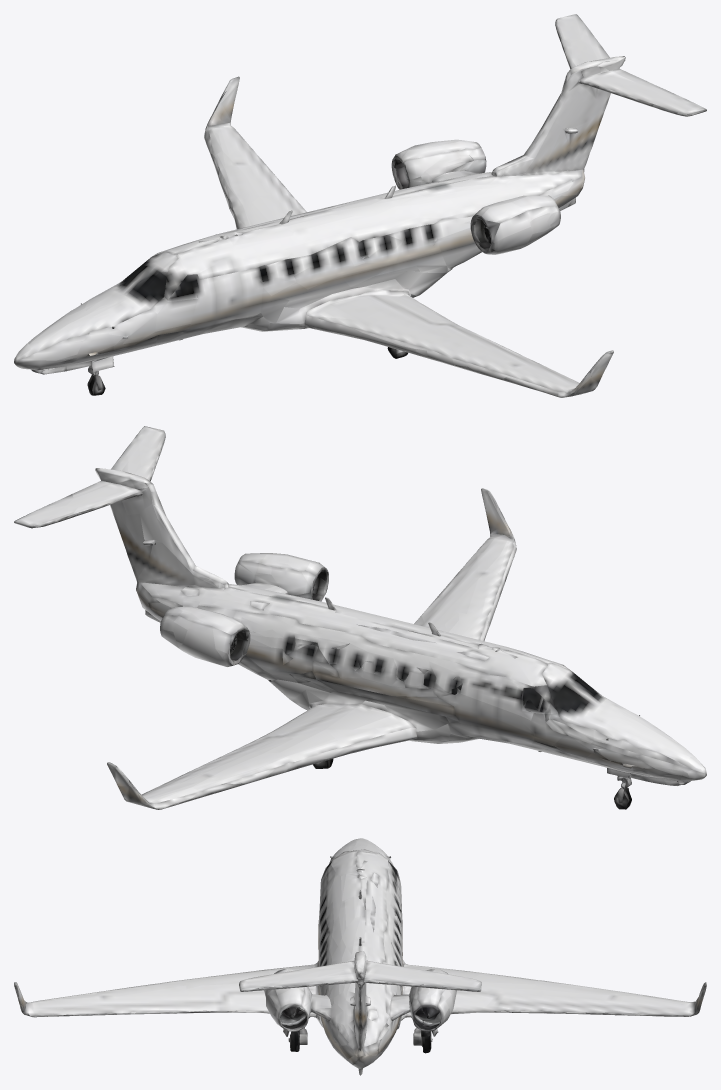
Rendered from jet_light.glb.
3 renders of one model, top to bottom at view 1: azimuth 30°, elevation 25°; view 2: azimuth 150°, elevation 25°; view 3: azimuth 270°, elevation 25°, orthographic. The views are drawn at different scales.
Visible parts, largest first — view 1: LO; view 2: LO; view 3: LO.
Part boxes in pixels (x1,y1,x2,y2): LO: (14, 14, 706, 397); LO: (14, 426, 706, 809); LO: (14, 838, 706, 1075).
Size of the model in its own units: 15.6 by 5.08 by 16.17.
Materials: 1 (1 with a texture image).
